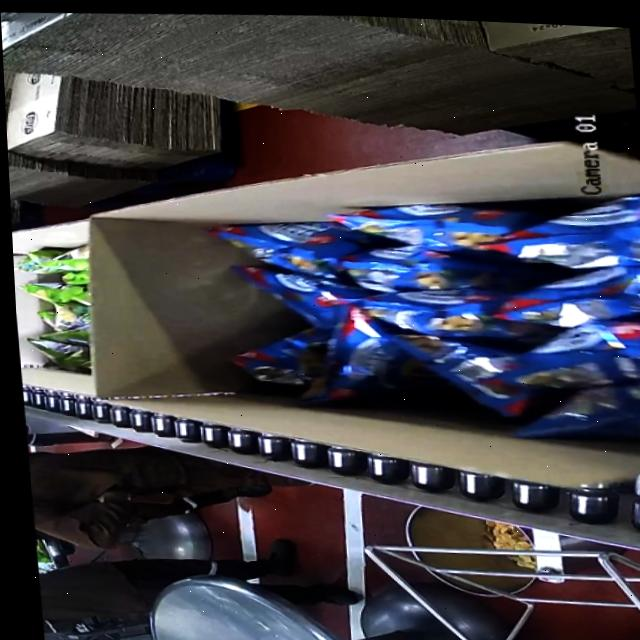PAPRIKA: (216, 179, 640, 438)
